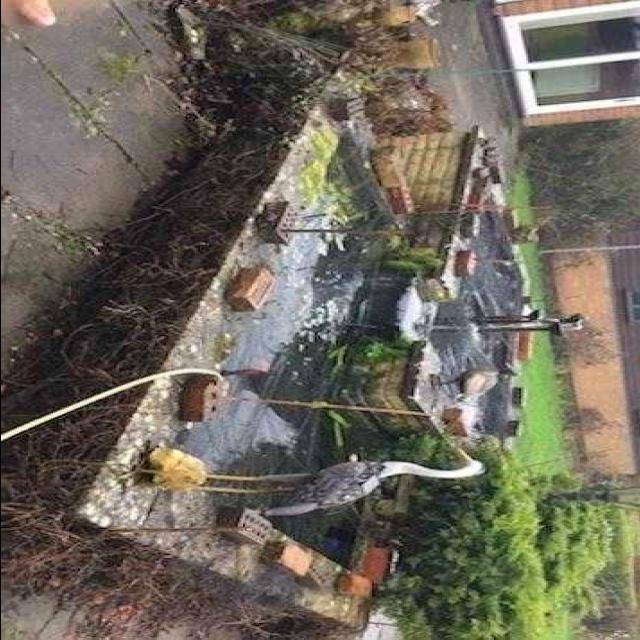egret: (206, 430, 492, 534)
